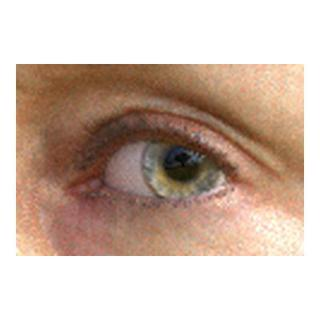pupil: (165, 147, 199, 181)
